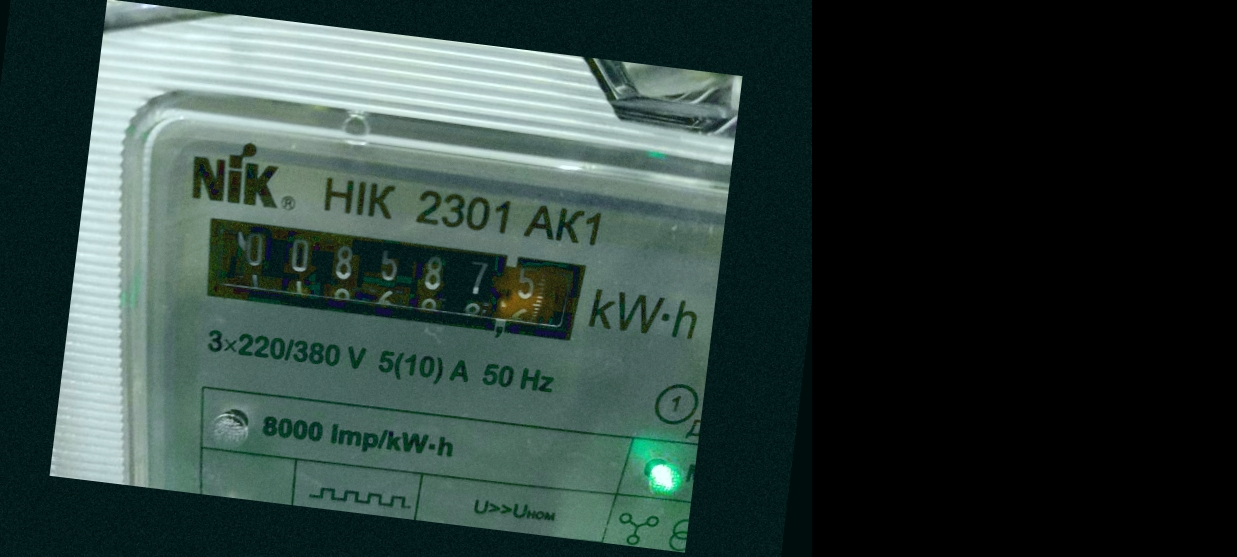0: (285, 232, 314, 275)
1: (239, 227, 268, 270)
5: (512, 261, 541, 303), (375, 244, 403, 285)
7: (463, 256, 491, 299)
8: (328, 239, 358, 283), (420, 250, 445, 294)
screen: (178, 195, 608, 364)
